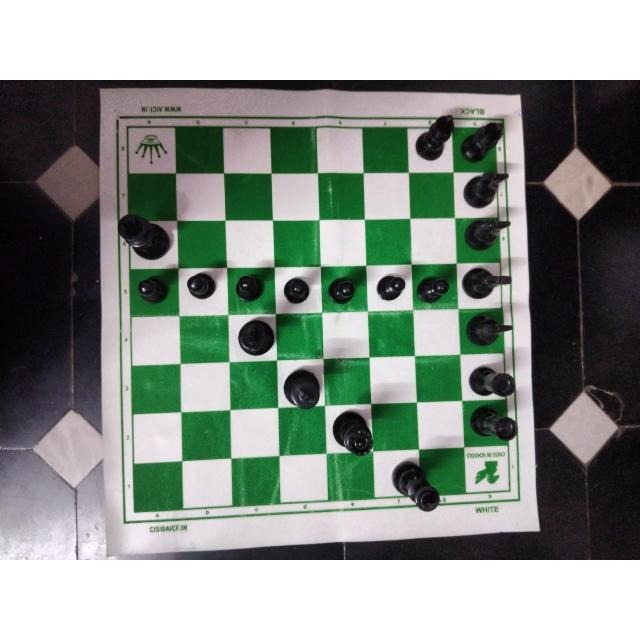black-bishop: (461, 110, 511, 164), (415, 110, 457, 164)
black-king: (385, 461, 446, 517), (111, 210, 172, 261), (281, 366, 323, 410), (236, 314, 280, 354)
black-knight: (461, 306, 516, 349), (460, 169, 512, 211), (462, 216, 518, 252), (462, 264, 516, 300)
black-pawn: (371, 267, 409, 306), (131, 271, 171, 307), (414, 270, 454, 306), (181, 271, 221, 305), (324, 271, 360, 306), (233, 271, 269, 305), (280, 271, 312, 307)
black-queen: (326, 408, 377, 460)
black-rook: (468, 402, 524, 447), (463, 361, 520, 401)
